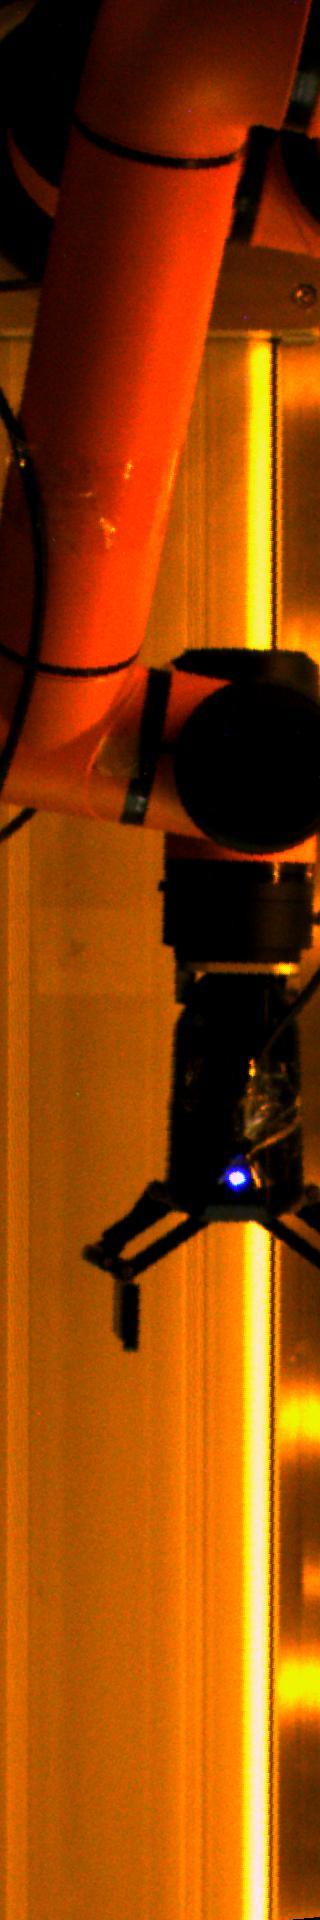keyPoint_1: (222, 1160, 253, 1190)
